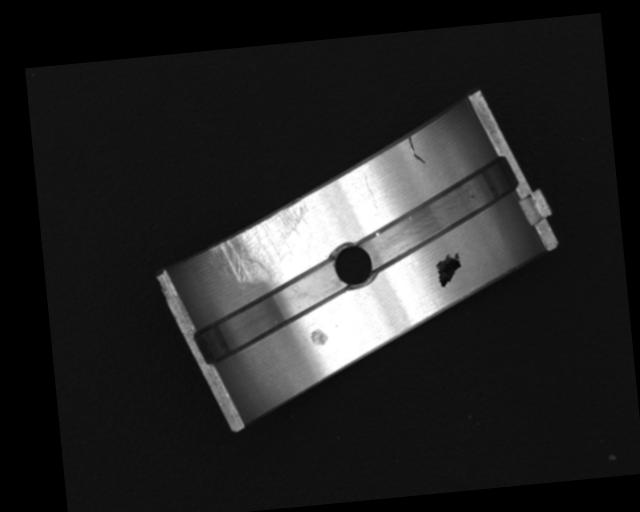blot: (433, 249, 464, 288)
bruise: (309, 327, 328, 346)
gap: (356, 159, 525, 274), (188, 259, 353, 366)
hole: (331, 238, 378, 290)
nick: (407, 132, 426, 164), (362, 173, 378, 210)
scratch: (203, 198, 315, 288)
